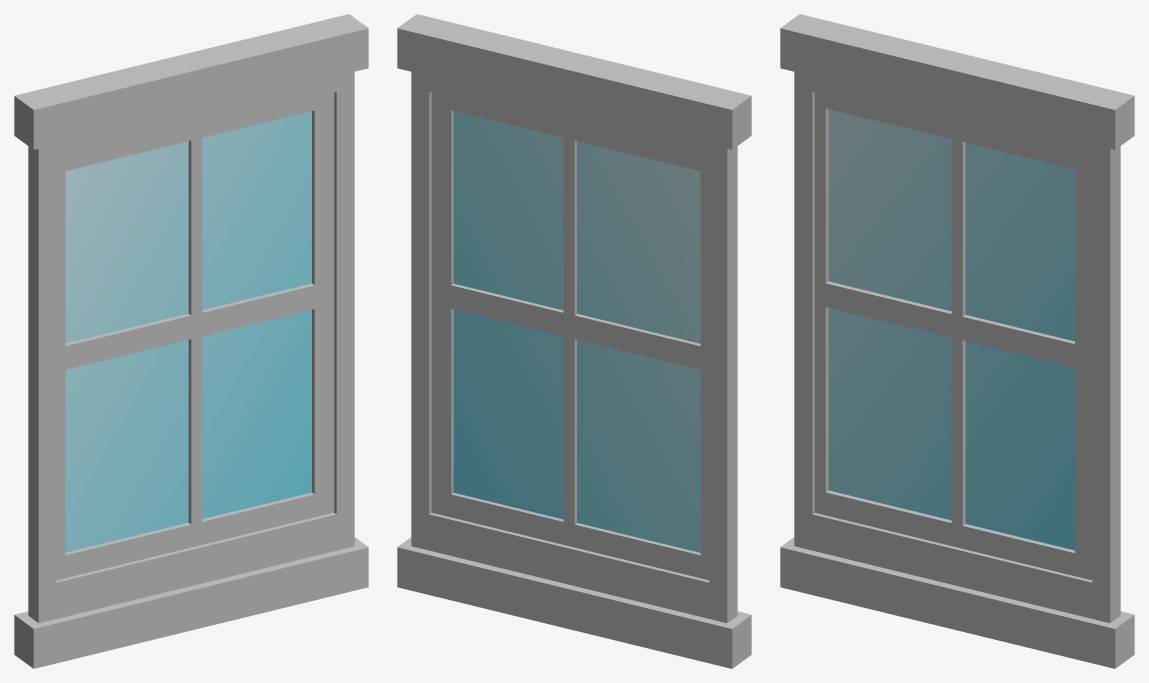
The model's file is Items.fbx.
3 views of the same model, side by side, from view 1: azimuth 30°, elevation 25°; view 2: azimuth 150°, elevation 25°; view 3: azimuth 330°, elevation 25° (orthographic).
Visible parts, largest first — view 1: Window; view 2: Window; view 3: Window.
Boxes of the visible parts, x1,y1,x2,y2 form: Window: (14,14,368,668); Window: (397,14,751,668); Window: (780,14,1134,668).
Size of the model in its own units: 654 by 1043 by 66.15.
